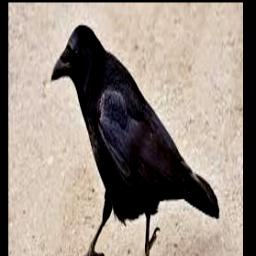Crow: (50, 24, 219, 256)
